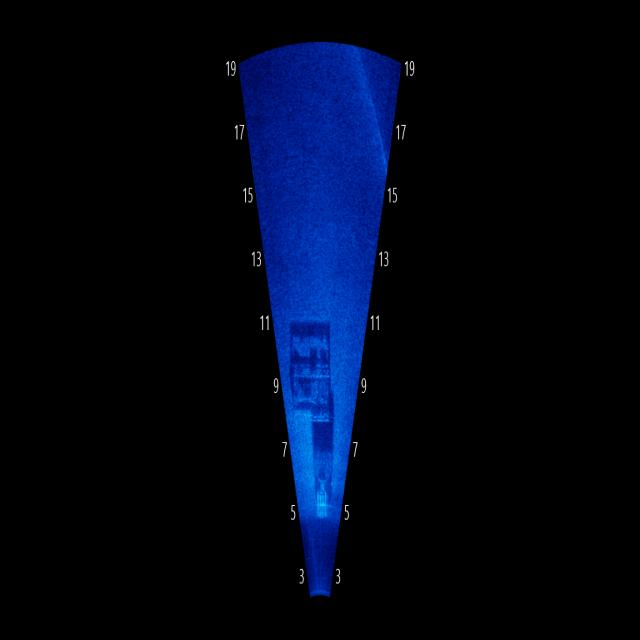square: (284, 295, 349, 423)
